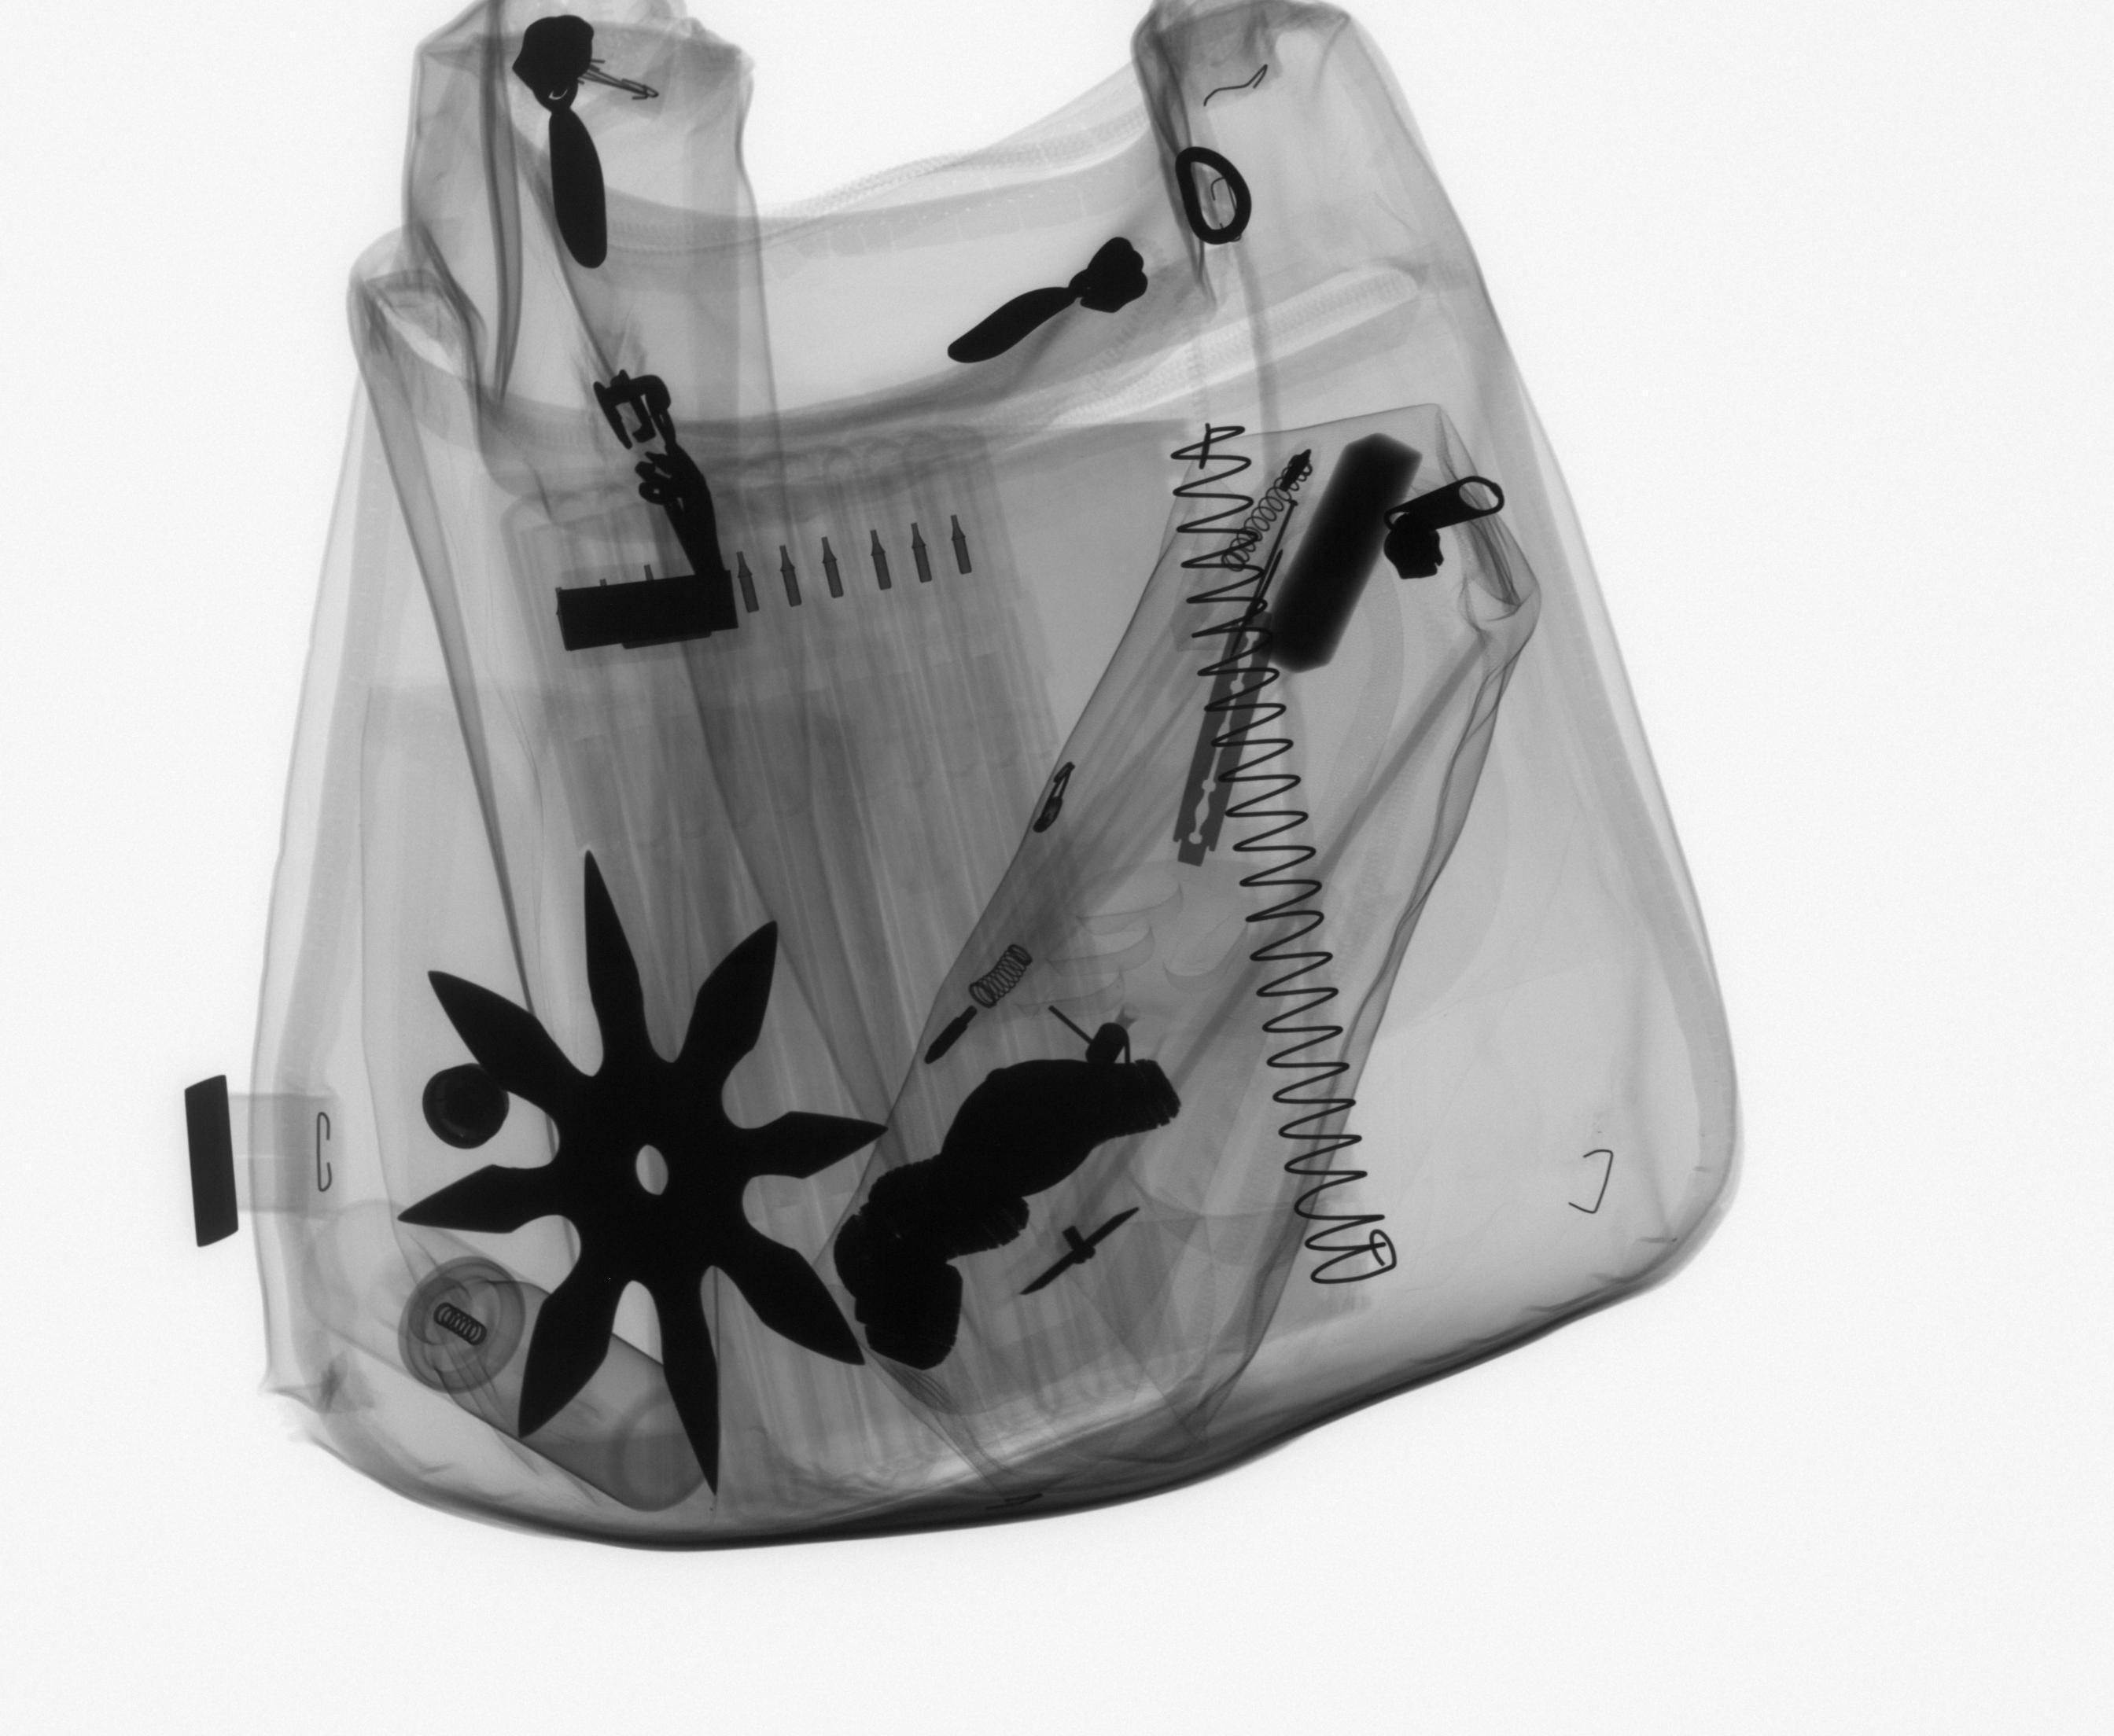RazorBlade: (1166, 603, 1285, 873)
Shuriken: (383, 840, 897, 1505)
